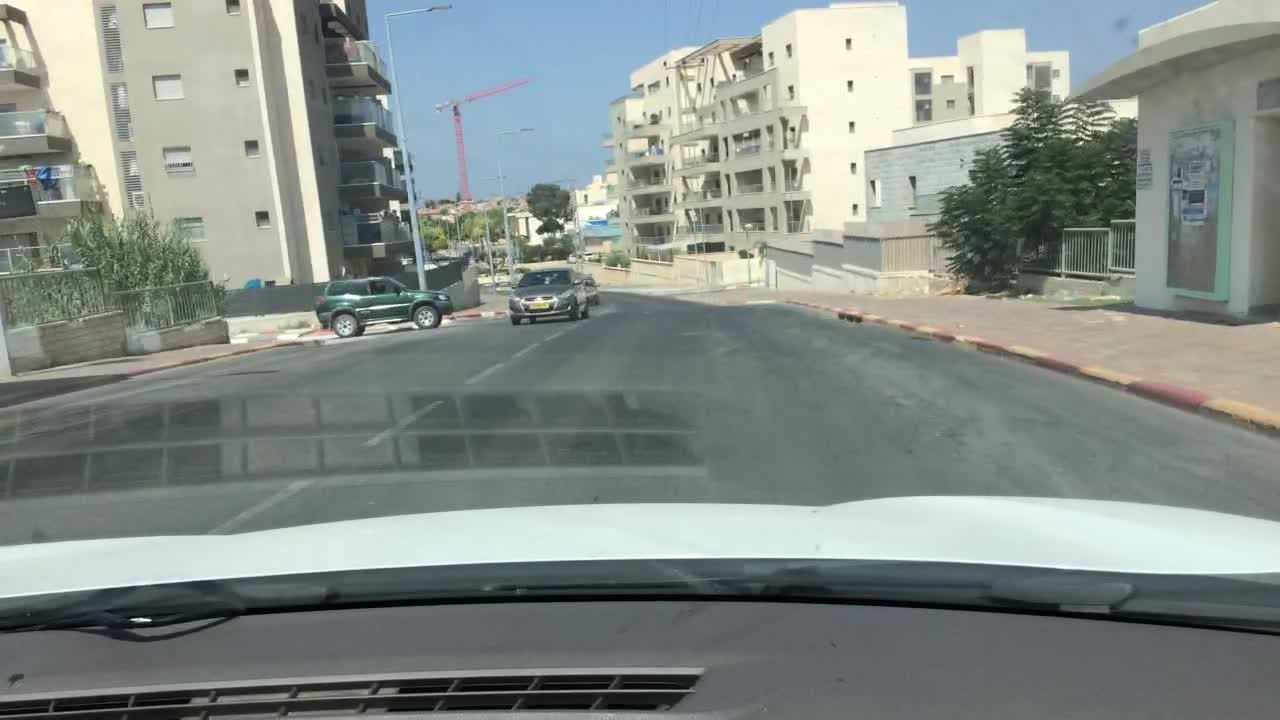car: (312, 276, 452, 337), (505, 269, 591, 325), (581, 273, 602, 305), (513, 265, 534, 281), (495, 282, 515, 296), (495, 271, 510, 280), (566, 253, 579, 263), (477, 275, 492, 282), (479, 262, 489, 271), (491, 257, 502, 265), (584, 252, 593, 259)
